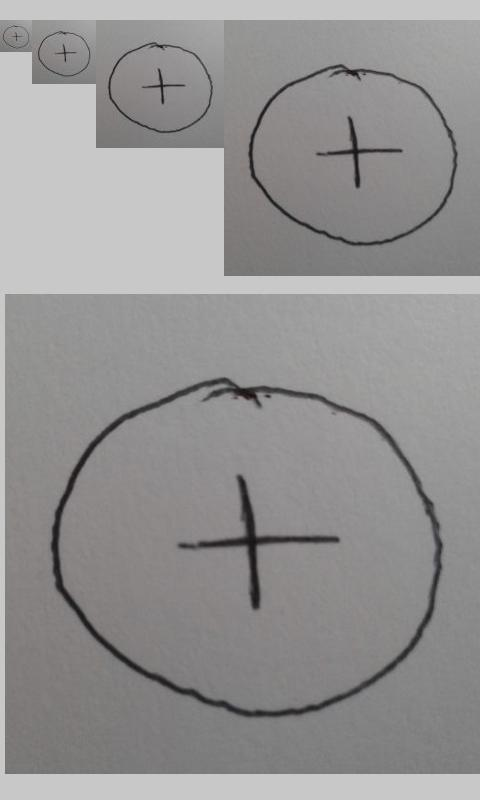button: (50, 375, 445, 717), (247, 63, 459, 248), (107, 42, 215, 134), (37, 31, 91, 77), (2, 25, 30, 49)
